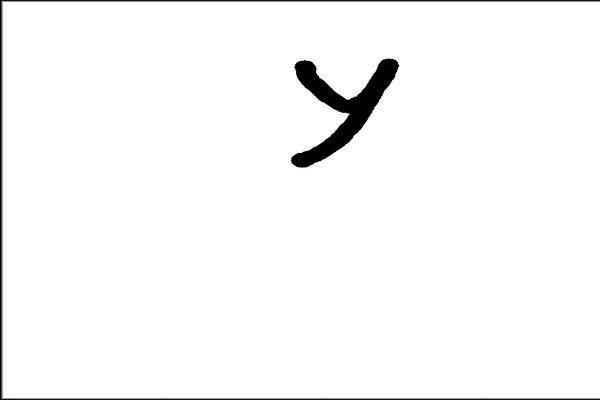Y: (279, 47, 402, 177)
